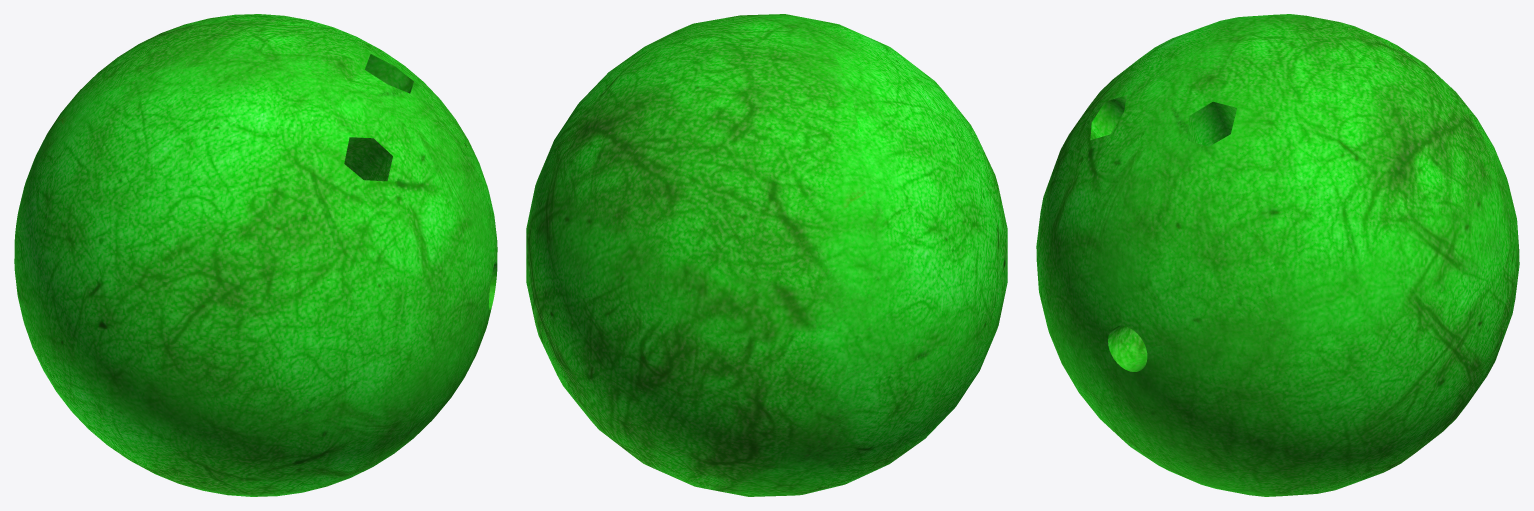
Rendered from BowlingBall.fbx.
3 views of the same model, side by side, from view 1: azimuth 30°, elevation 25°; view 2: azimuth 150°, elevation 25°; view 3: azimuth 270°, elevation 25° (orthographic).
Visible parts, largest first — view 1: bs_obj_1; view 2: bs_obj_1; view 3: bs_obj_1.
Part boxes in pixels (left/top/right/bottom): bs_obj_1: left=14, top=14, right=497, bottom=496; bs_obj_1: left=526, top=14, right=1007, bottom=496; bs_obj_1: left=1036, top=14, right=1519, bottom=496.
Bounding box in the file's own units: 21.96 × 21.97 × 21.97.
Materials: 1 (1 with a texture image).
